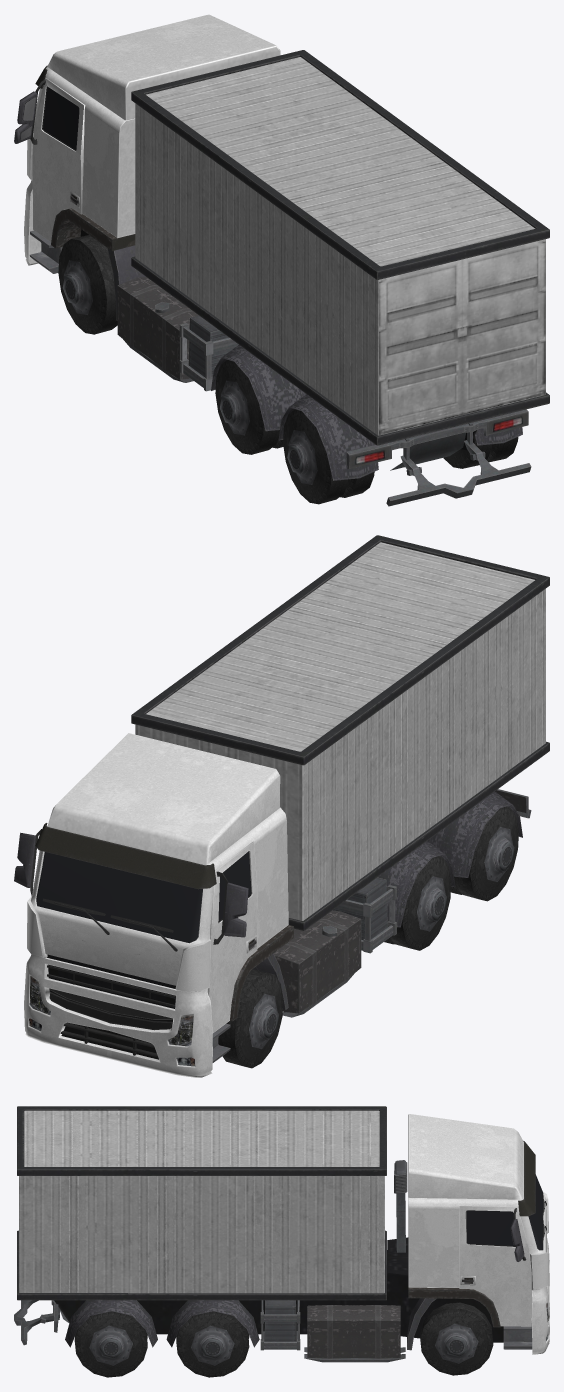
Rendered from Delivery_Truck.glb.
3 renders of one model, top to bottom at view 1: azimuth 30°, elevation 25°; view 2: azimuth 150°, elevation 25°; view 3: azimuth 270°, elevation 25°, orthographic. The views are drawn at different scales.
Parts seen in each view (by area): view 1: Delivery_Truck__LOD3; view 2: Delivery_Truck__LOD3; view 3: Delivery_Truck__LOD3.
Part boxes in pixels (x1,y1,x2,y2): Delivery_Truck__LOD3: (14, 14, 549, 506); Delivery_Truck__LOD3: (14, 535, 549, 1077); Delivery_Truck__LOD3: (14, 1106, 549, 1377).
Size of the model in its own units: 3.25 by 3.68 by 8.7.
1 material, 1 textured.
